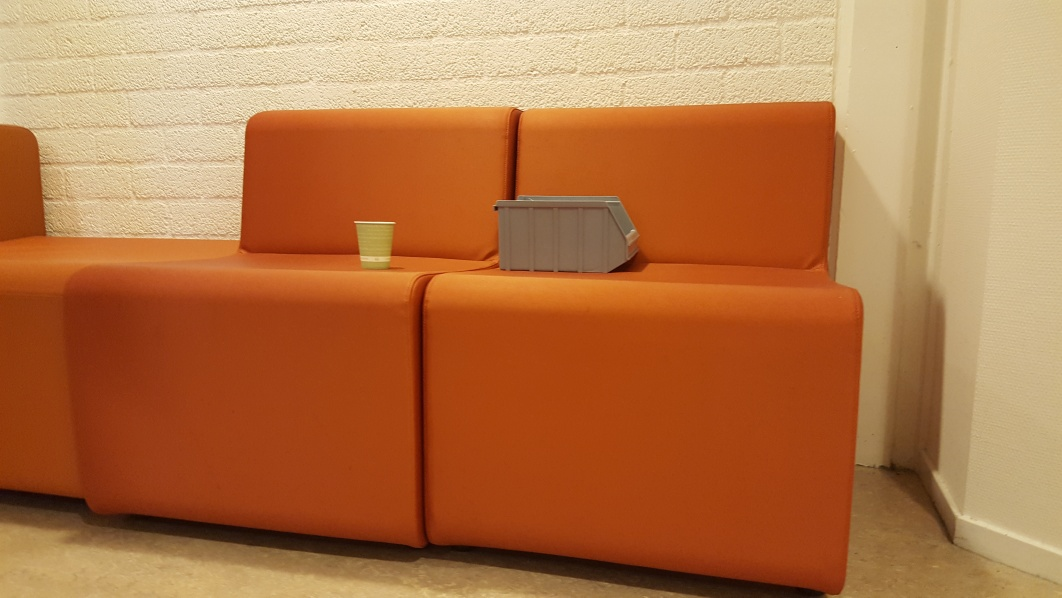cup: (352, 214, 397, 271)
tray: (493, 194, 642, 277)
